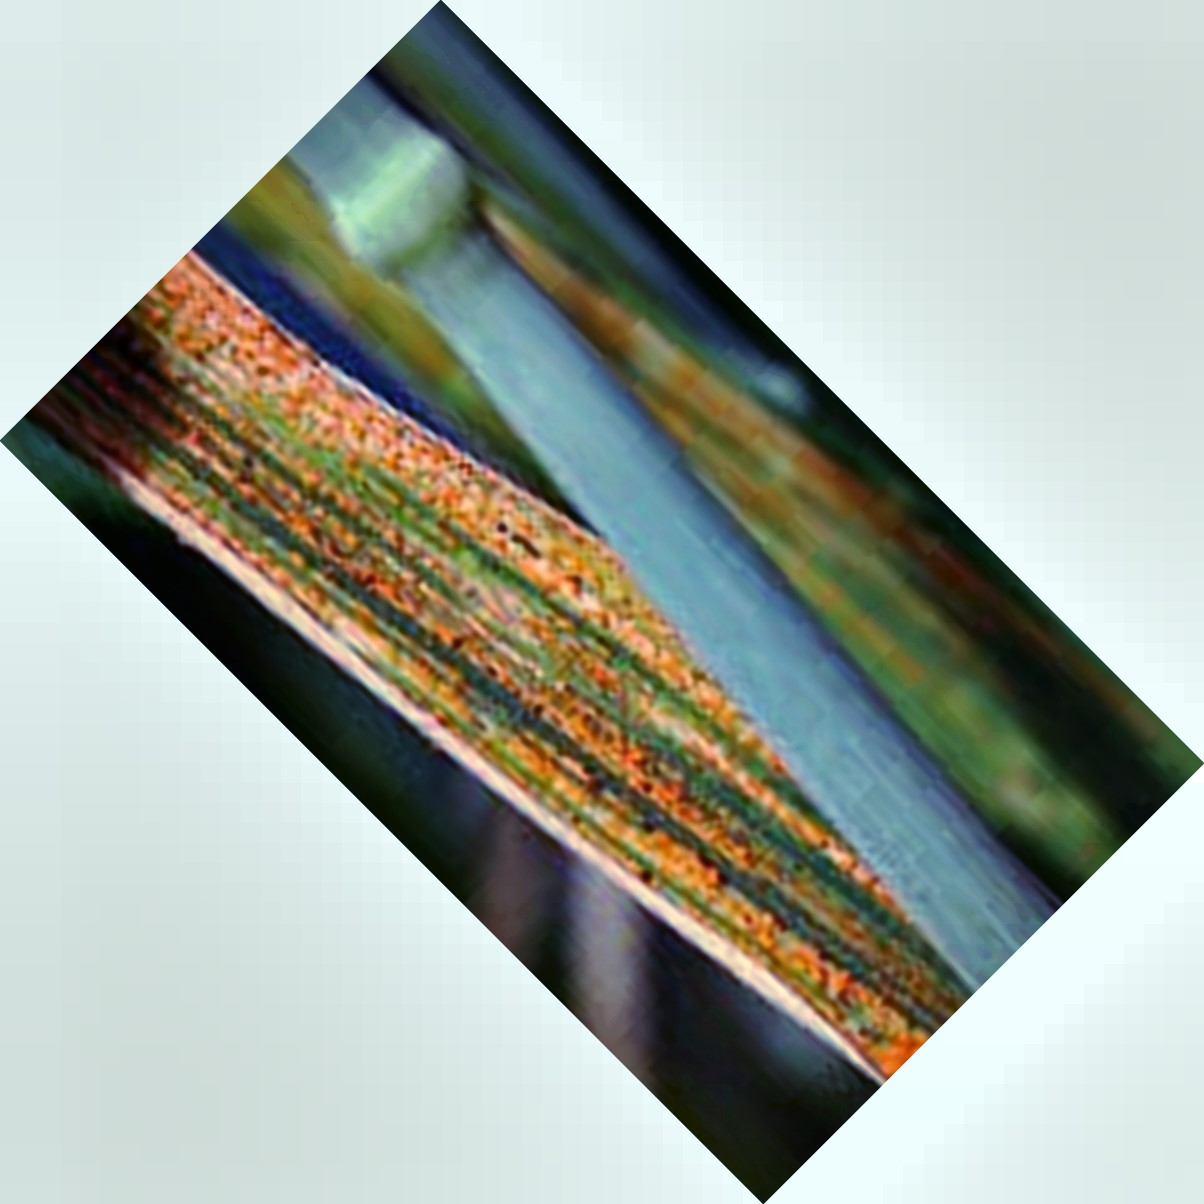Leaf Rust: (135, 318, 830, 992)
